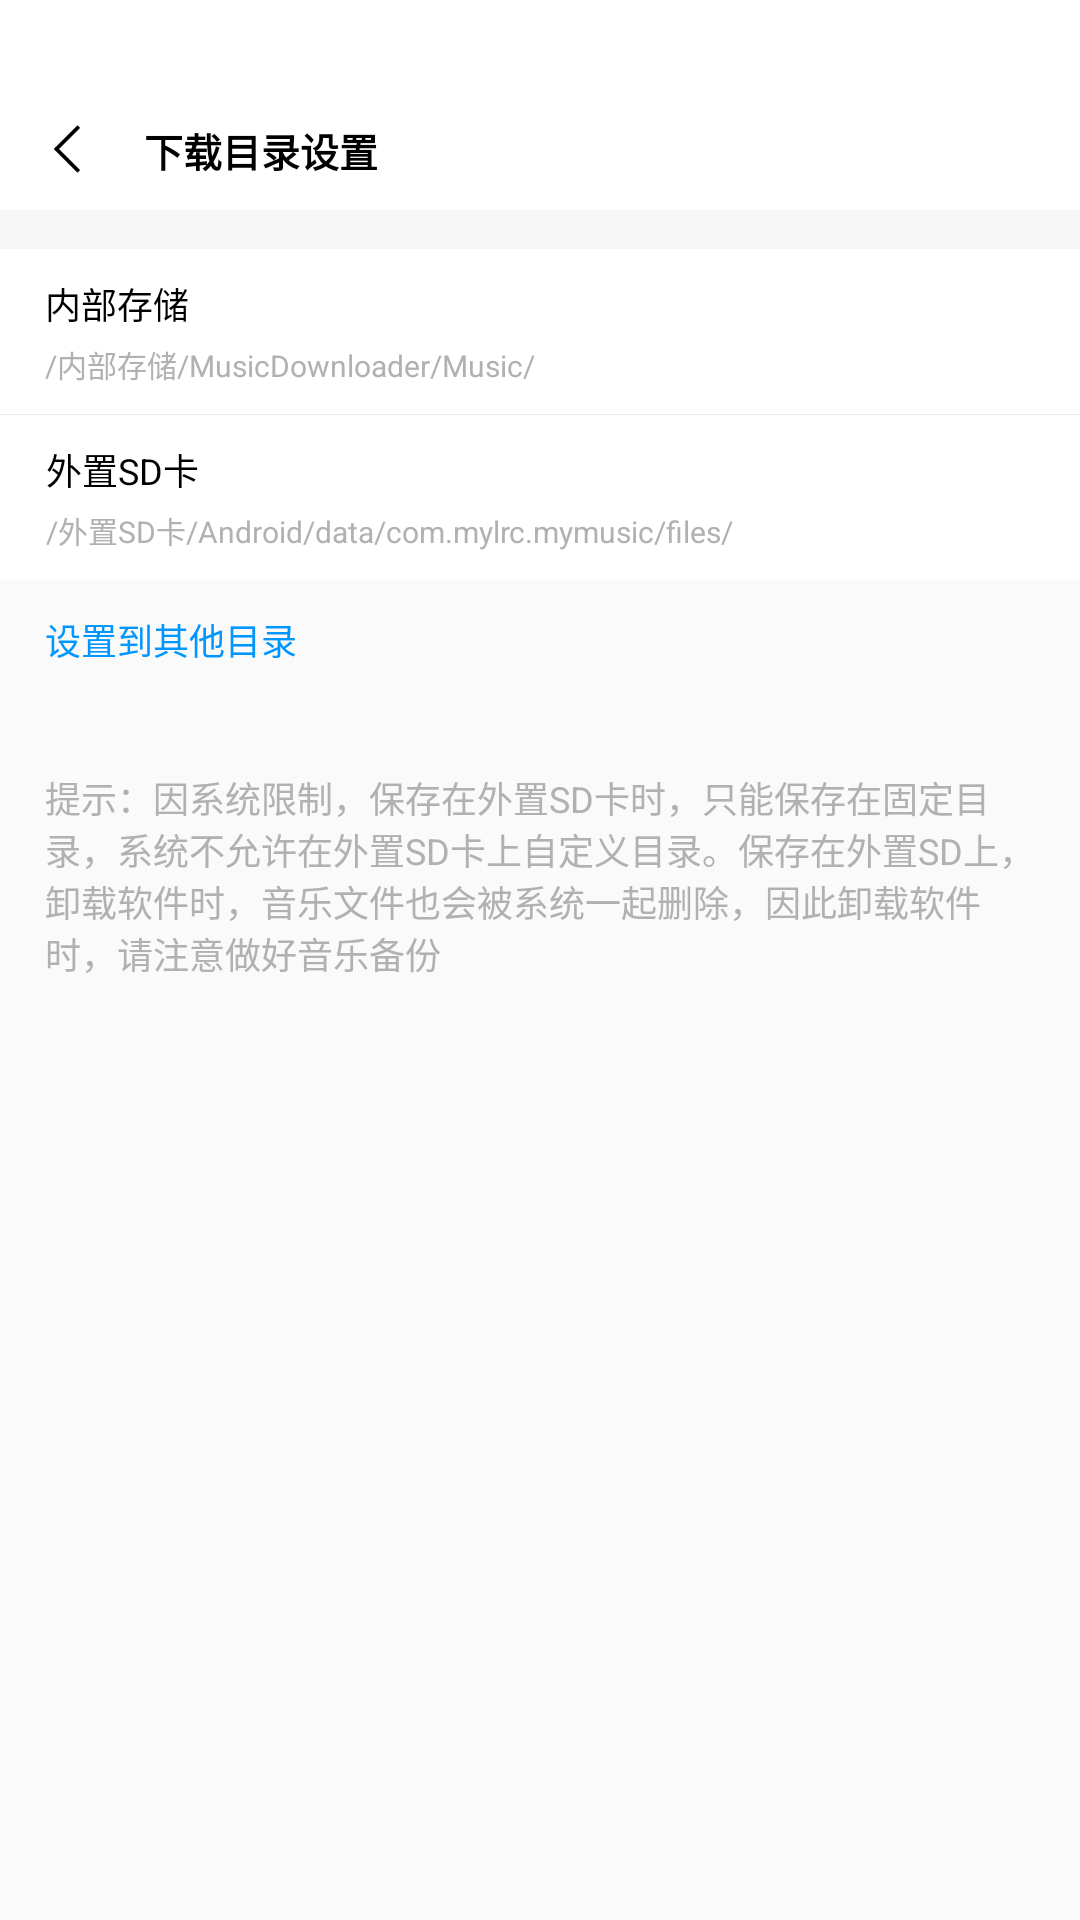

Screen size 1080x1920. Icon name, then its center in pixels as (x,y):
left: (67,149)
